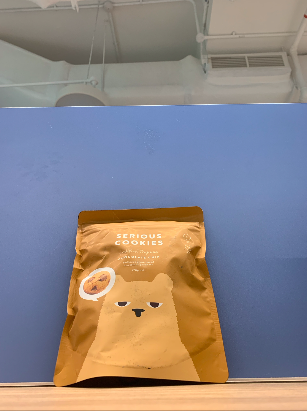Cookies_100-199g: (75, 221, 202, 345)
